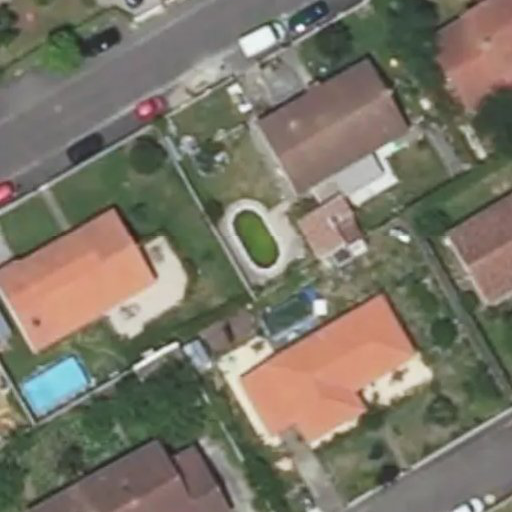pool: (223, 219, 286, 262)
